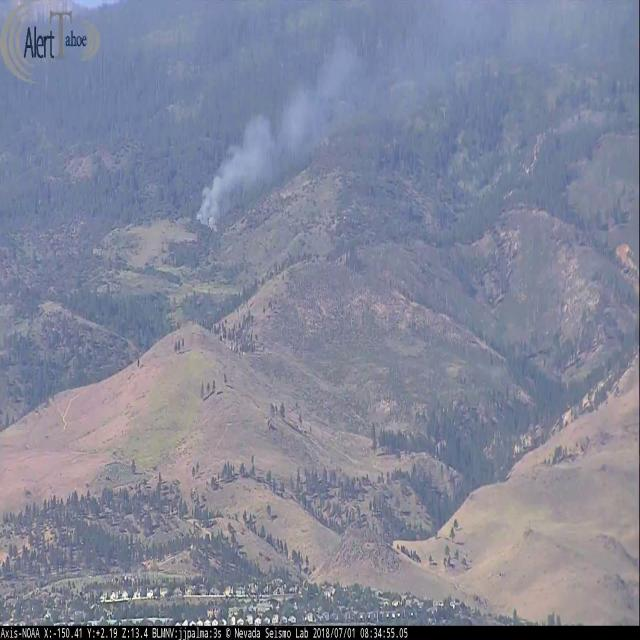smoke: (192, 19, 412, 230)
